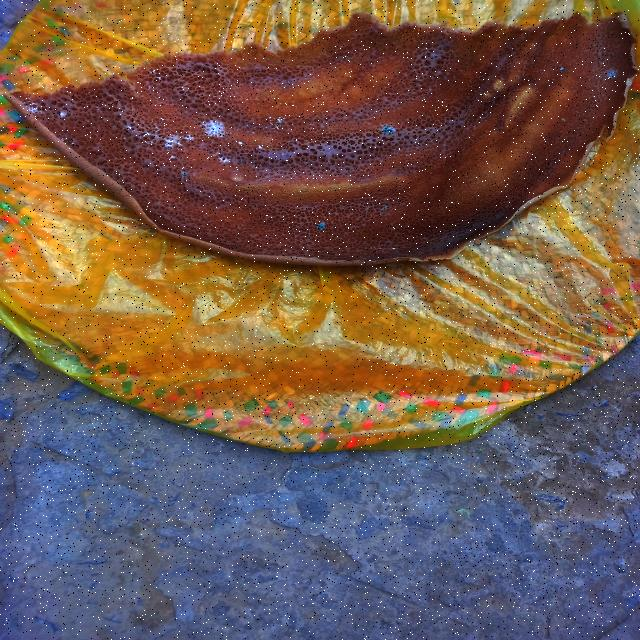injera_mold: (198, 117, 230, 139), (263, 113, 287, 133), (20, 100, 42, 117), (162, 133, 182, 149), (602, 66, 621, 80), (181, 132, 199, 144), (377, 124, 396, 135), (312, 220, 327, 233), (178, 168, 191, 180), (56, 110, 69, 120), (217, 156, 230, 164)
